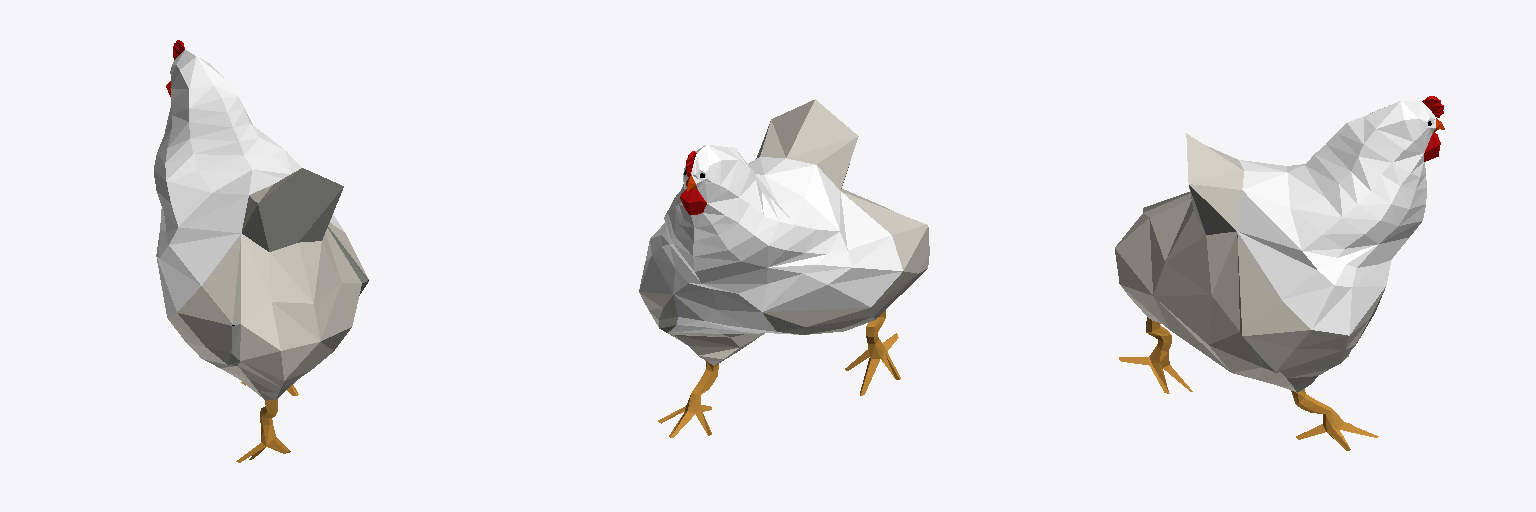
File: frame3.obj
The picture shows the model from 3 angles: view 1: azimuth 30°, elevation 25°; view 2: azimuth 150°, elevation 25°; view 3: azimuth 270°, elevation 25°; orthographic projection.
Visible parts, largest first — view 1: frame4:Chicken; view 2: frame4:Chicken; view 3: frame4:Chicken.
Boxes of the visible parts, box(x1,y1,x2,y2) form: frame4:Chicken: box(154, 40, 368, 462); frame4:Chicken: box(639, 99, 929, 437); frame4:Chicken: box(1115, 96, 1444, 450).
Bounding box in the file's own units: 2.15 × 3.07 × 2.88.